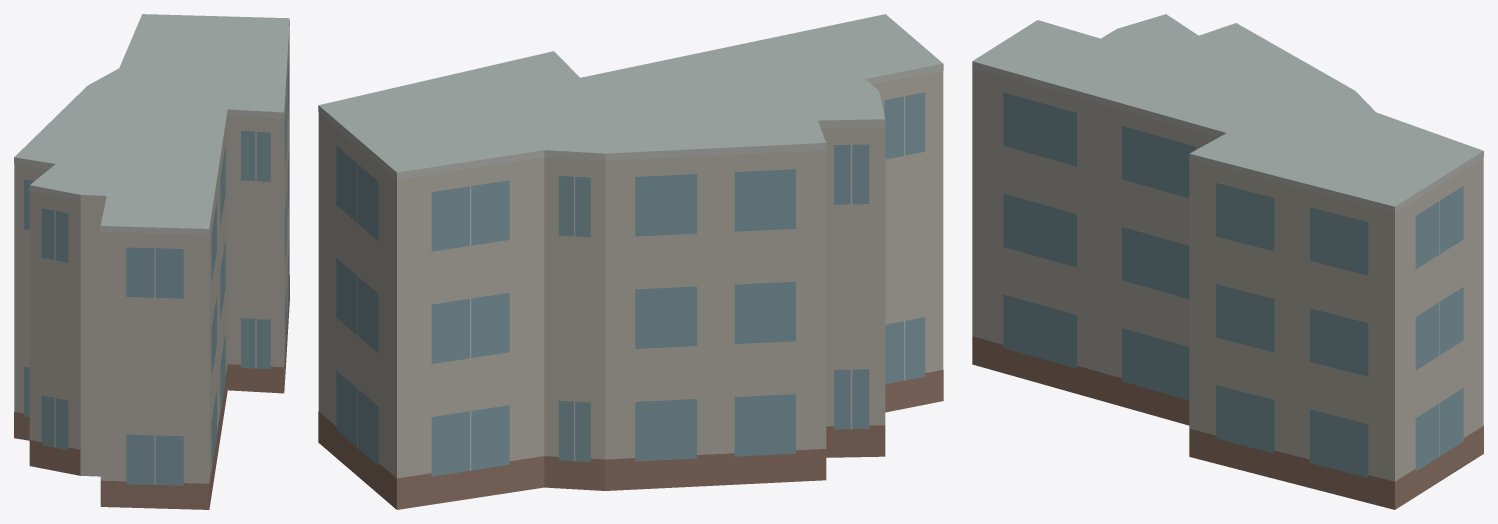
The model's file is survey-upis-32492528.glb.
The picture shows the model from 3 angles, left to right: view 1: azimuth 30°, elevation 25°; view 2: azimuth 150°, elevation 25°; view 3: azimuth 270°, elevation 25°; orthographic projection. The views are drawn at different scales.
Visible parts, largest first — view 1: survey-upis-32492528.tmp; view 2: survey-upis-32492528.tmp; view 3: survey-upis-32492528.tmp.
Part boxes in pixels (x1,y1,x2,y2): survey-upis-32492528.tmp: (14,14,289,509); survey-upis-32492528.tmp: (318,14,943,509); survey-upis-32492528.tmp: (972,14,1483,509).
Bounding box in the file's own units: 15.58 × 11.42 × 17.47.
